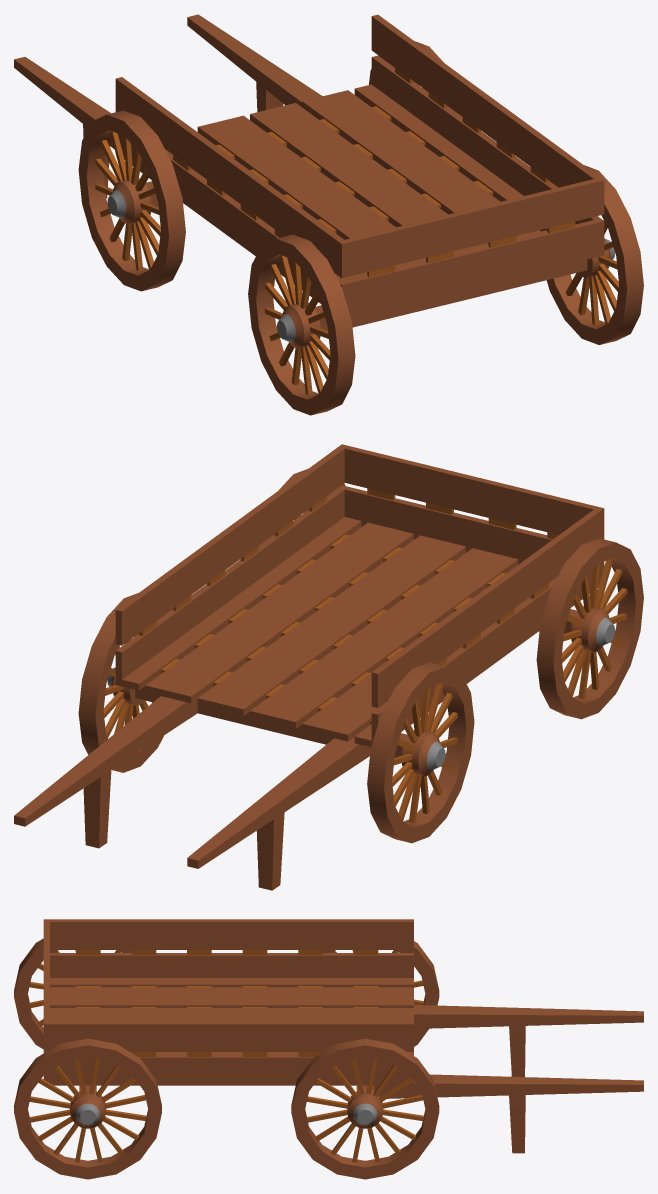
Rendered from wagon.fbx.
3 views of the same model, one above another, from view 1: azimuth 30°, elevation 25°; view 2: azimuth 150°, elevation 25°; view 3: azimuth 270°, elevation 25° (orthographic). The views are drawn at different scales.
Visible parts, largest first — view 1: Wagon; view 2: Wagon; view 3: Wagon.
Boxes of the visible parts, x1,y1,x2,y2 form: Wagon: (14, 14, 643, 415); Wagon: (14, 444, 643, 890); Wagon: (14, 919, 643, 1179).
Size of the model in its own units: 251 by 131 by 511.
